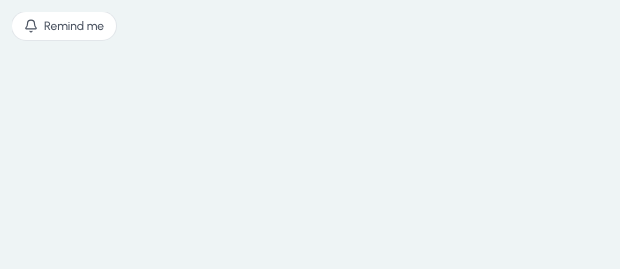
Scenario: HealthTipReminder › shows the server's limit message and lets the person try again
The image size is (620, 269).
Click the button "Remind me". click: coordinates (64, 26)
box: [12,12,116,40]
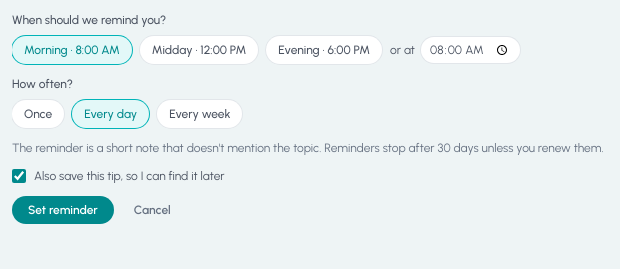
Click the button "Set reminder". click: coordinates (63, 210)
box: [12,196,114,224]
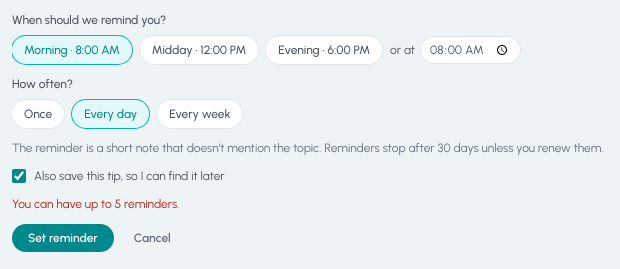
Result: the message reads "You can have up to 5 reminders." at [12,197,179,211]
Click the button "Set reminder". click: coordinates (63, 238)
box: [12,224,114,252]
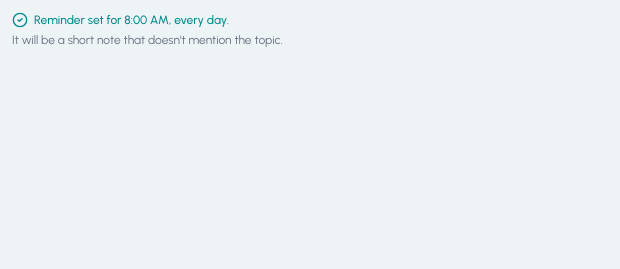
Result: the text "Reminder set for 8:00 AM, every day." is shown at [12,12,229,28]
